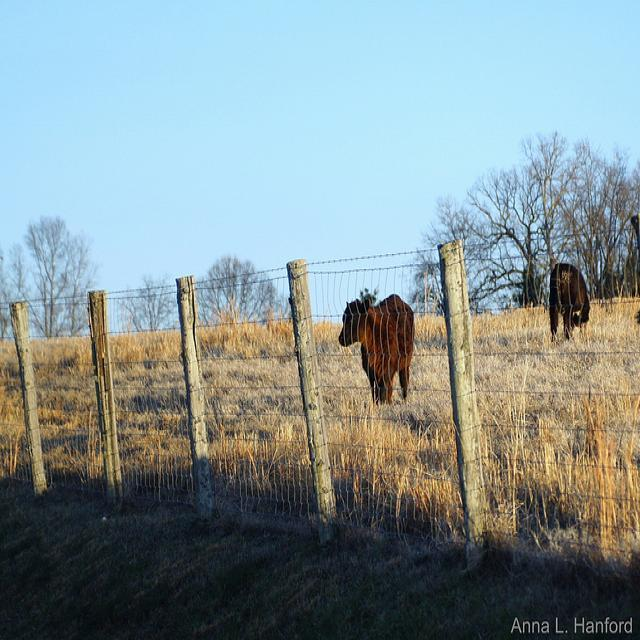cow: (336, 293, 414, 402), (549, 259, 593, 340)
